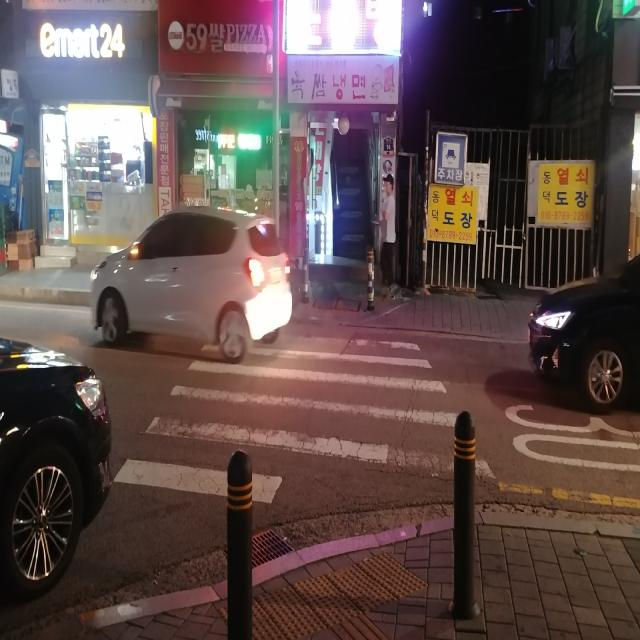횡단보도: (111, 334, 496, 506)
